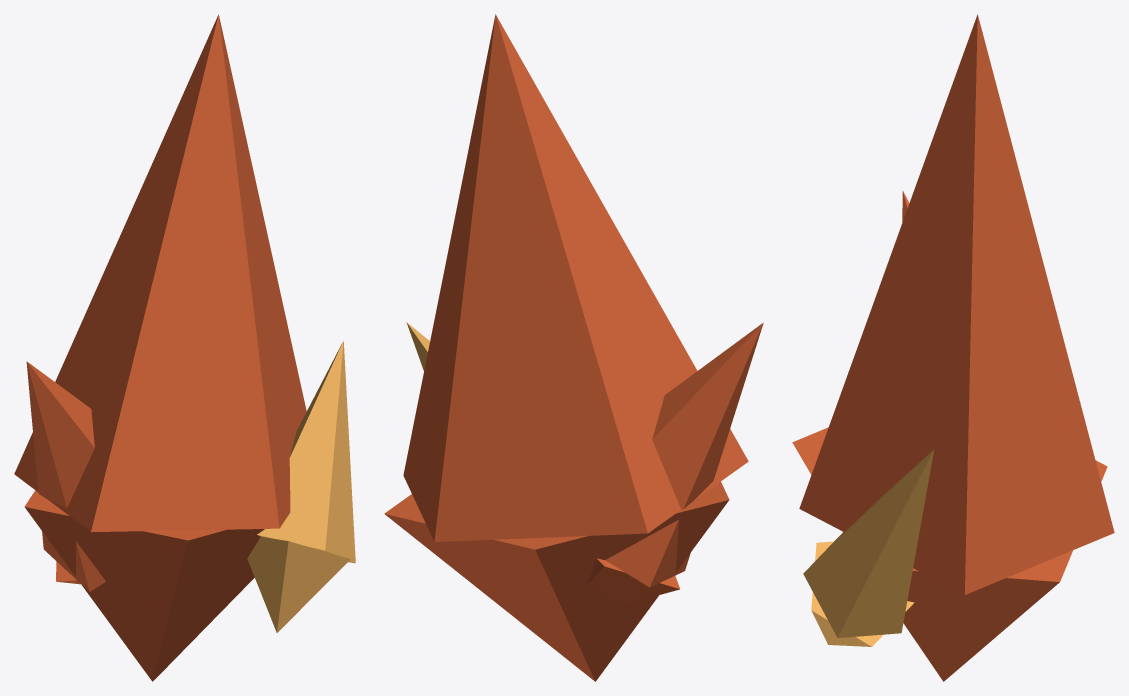
Rendered from FSA_ITEM_FireDemonCore.glb.
3 renders of one model, left to right at view 1: azimuth 30°, elevation 25°; view 2: azimuth 150°, elevation 25°; view 3: azimuth 270°, elevation 25°, orthographic. The views are drawn at different scales.
Parts seen in each view (by area): view 1: FireHeart_Crown, FireHeart_Root, FireFront_Crown, FireSide_Crown, FireFront_Root; view 2: FireHeart_Crown, FireHeart_Root, FireSide_Crown, FireSide_Root; view 3: FireHeart_Crown, FireFront_Crown, FireHeart_Root, FireFront_Root.
Part boxes in pixels (x1,y1,x2,y2): FireHeart_Crown: (14,14,306,532); FireHeart_Root: (24,490,264,681); FireFront_Crown: (257,341,355,563); FireSide_Crown: (26,361,105,591); FireFront_Root: (247,536,350,632); FireHeart_Crown: (403,14,748,541); FireHeart_Root: (384,481,729,681); FireSide_Crown: (605,322,763,587); FireSide_Root: (587,558,679,606); FireHeart_Crown: (799,14,1114,594); FireFront_Crown: (803,449,934,637); FireHeart_Root: (792,427,1107,681); FireFront_Root: (811,541,914,646).
Size of the model in its own units: 0.1394 by 0.256 by 0.105.
